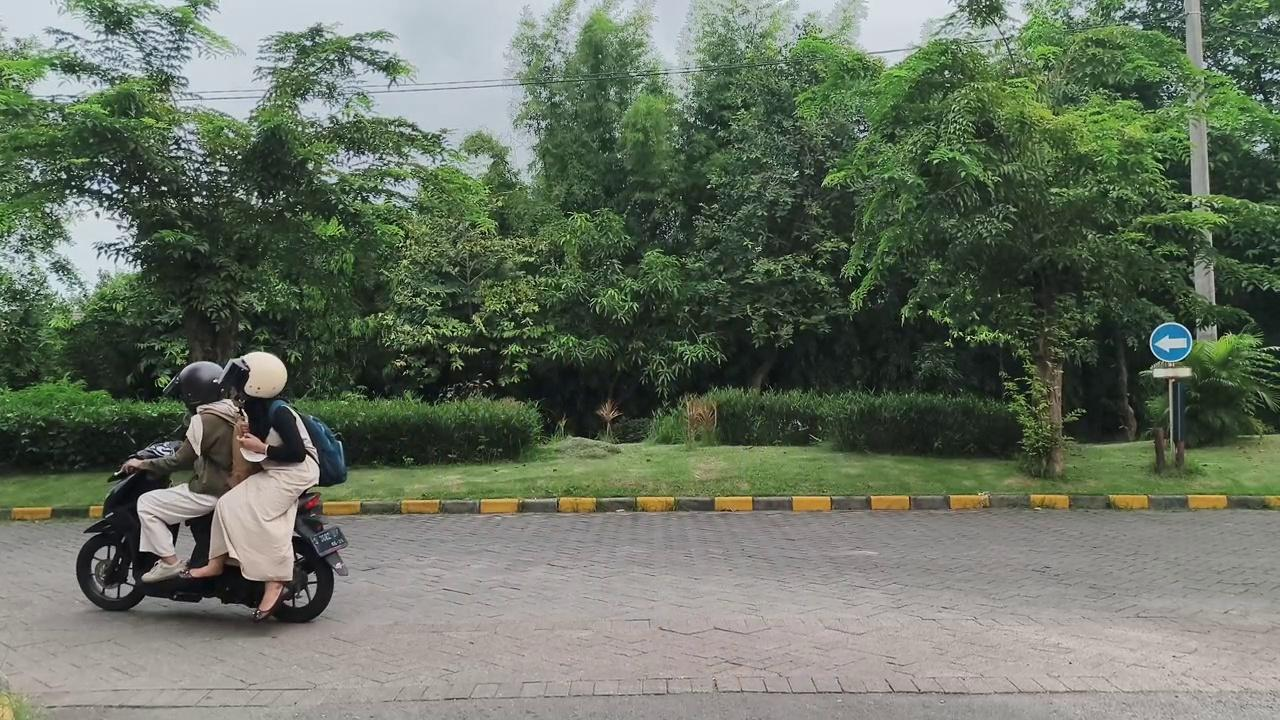Helmet: (182, 352, 319, 621), (122, 362, 240, 582)
Motor: (76, 472, 263, 610)
